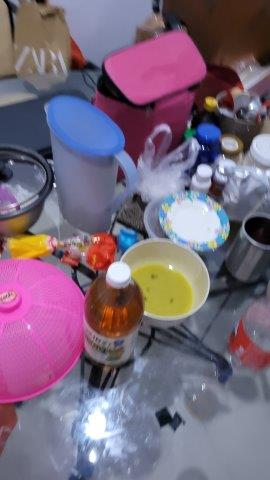plastik: (132, 128, 197, 204)
